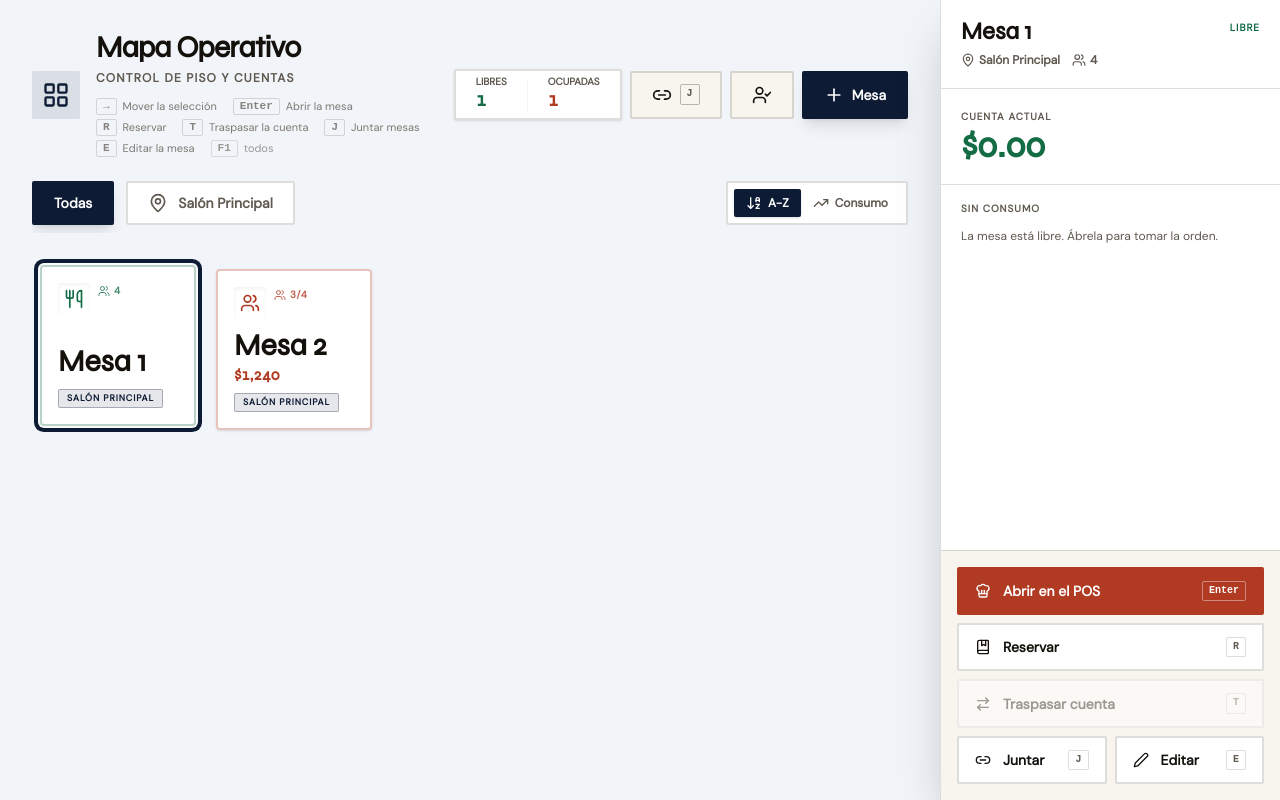
Scenario: figura acoplada — tablet apaisada y escritorio › el clic además mueve el cursor: el inspector sigue al ratón
Click the button "3/4 Mesa 2 $1,240 Salón Principal" at {"x": 294, "y": 350}, box [216, 269, 372, 430]
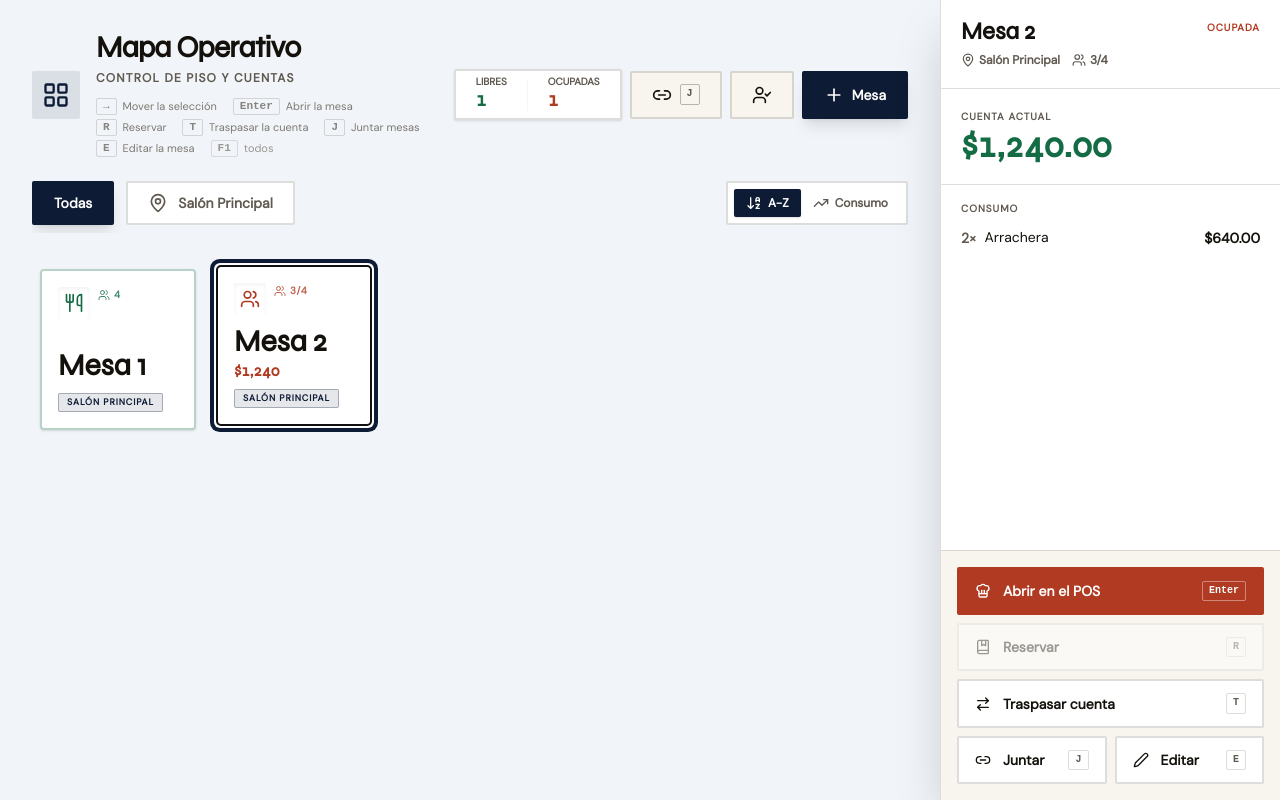
Check: the element that starts with "Mesa 2" is shown, box [961, 17, 1035, 46]
Check: the element that starts with "Mesa 2" shows "$1,240.00", box [961, 124, 1112, 167]
